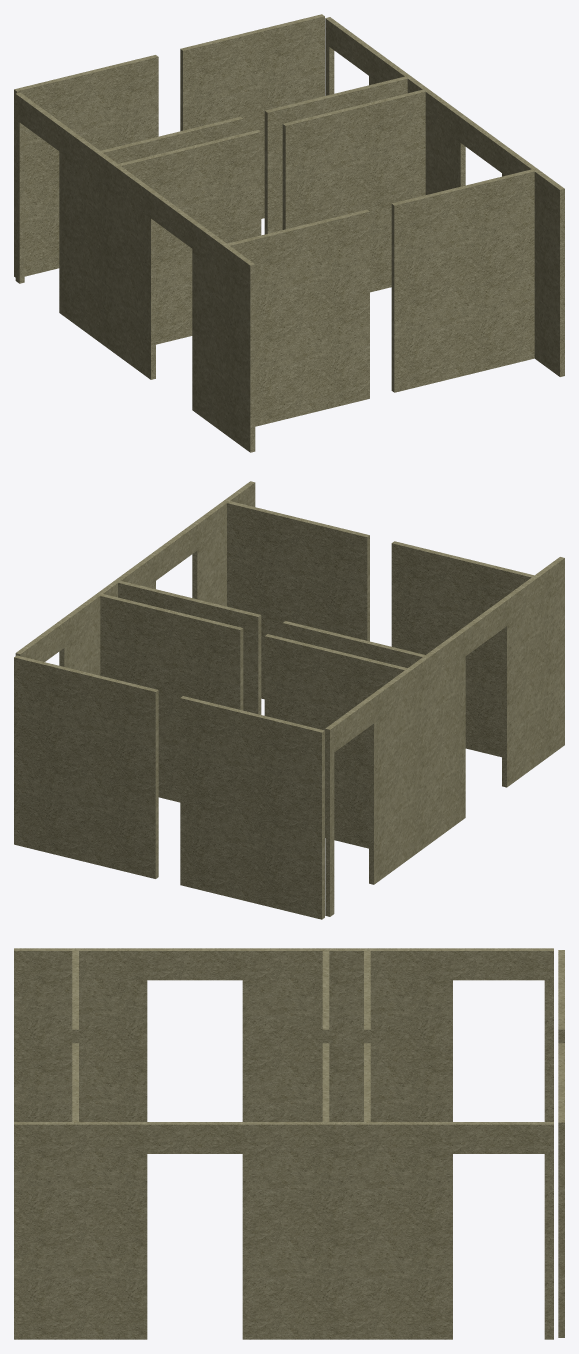
Rendered from Soojustusvill_Vannituba.glb.
3 views of the same model, one above another, from view 1: azimuth 30°, elevation 25°; view 2: azimuth 150°, elevation 25°; view 3: azimuth 270°, elevation 25° (orthographic). The views are drawn at different scales.
Parts seen in each view (by area): view 1: Soojustusvill_Vannituba_; view 2: Soojustusvill_Vannituba_; view 3: Soojustusvill_Vannituba_.
Part boxes in pixels (x1=…): Soojustusvill_Vannituba_: x1=14, y1=14, x2=564, y2=452; Soojustusvill_Vannituba_: x1=14, y1=481, x2=564, y2=919; Soojustusvill_Vannituba_: x1=14, y1=948, x2=564, y2=1339.
Bounding box in the file's own units: 4.28 × 2.43 × 5.65.
1 material, 1 textured.
